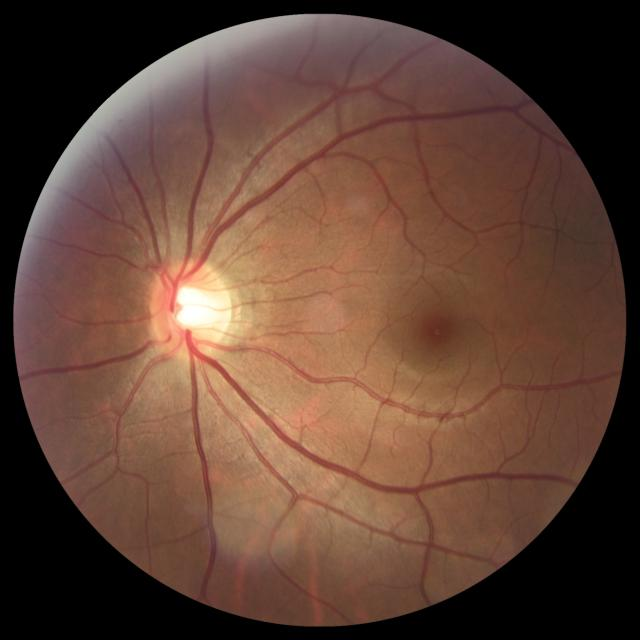OC: (170, 282, 215, 332)
OD: (149, 260, 232, 358)
